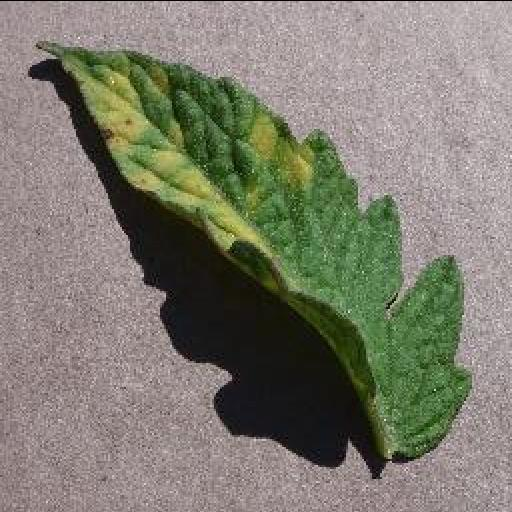disease_tomato: (37, 36, 475, 464)
